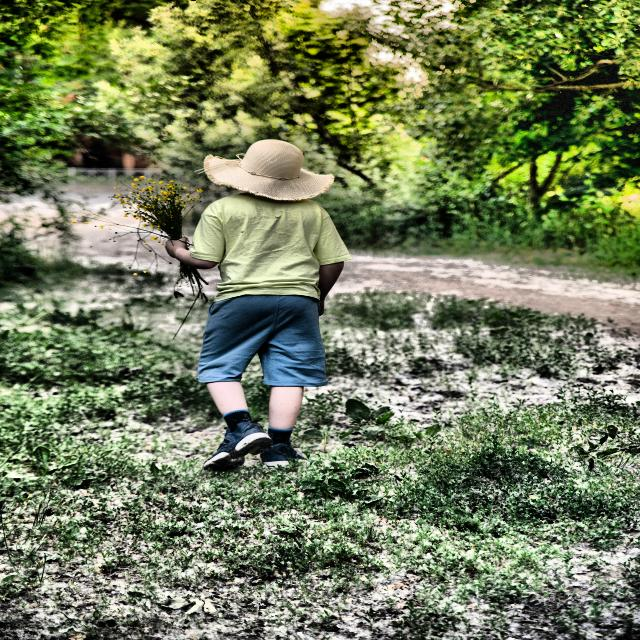Human: (155, 129, 341, 469)
